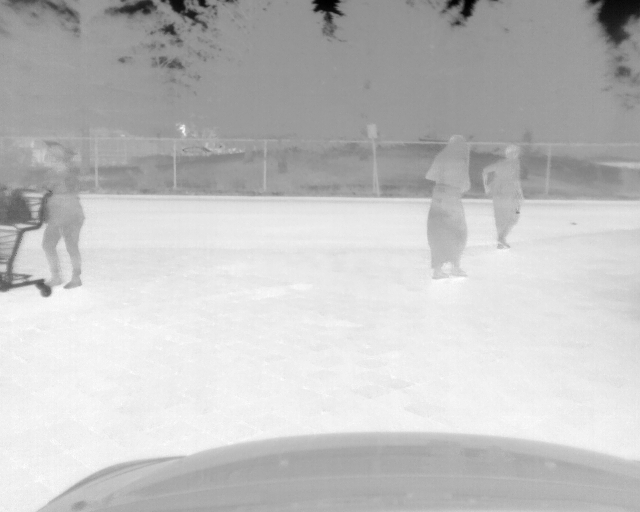people: (38, 140, 87, 291), (423, 135, 472, 280), (479, 144, 523, 250)
